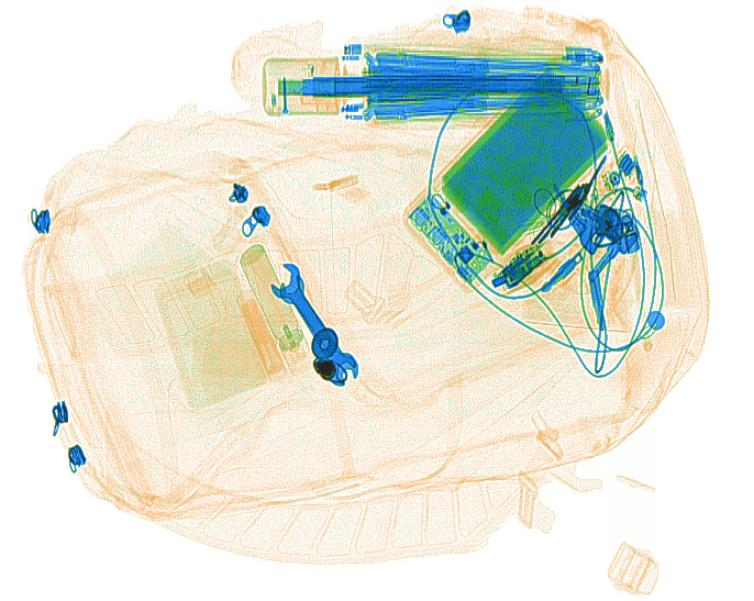pressure: (238, 243, 315, 376)
